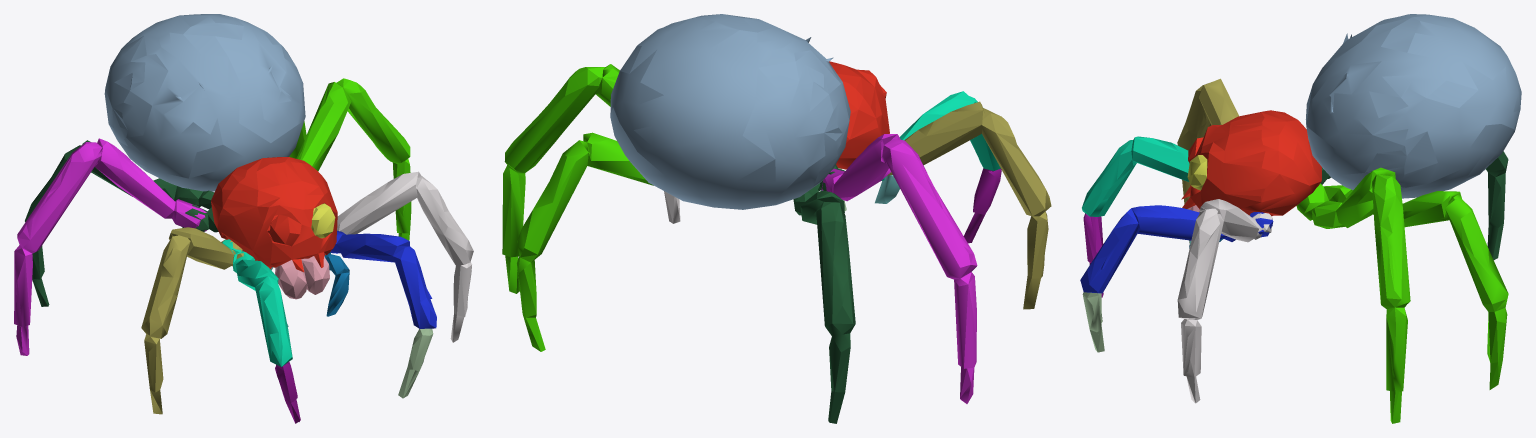
File: Spider.fbx
3 views of the same model, side by side, from view 1: azimuth 30°, elevation 25°; view 2: azimuth 150°, elevation 25°; view 3: azimuth 270°, elevation 25° (orthographic). The views are drawn at different scales.
Visible parts, largest first — view 1: part_1; view 2: part_1; view 3: part_1.
Boxes of the visible parts, x1=… form: part_1: x1=14, y1=14, x2=473, y2=423; part_1: x1=502, y1=14, x2=1051, y2=423; part_1: x1=1080, y1=14, x2=1521, y2=423.
Bounding box in the file's own units: 96.5 × 64.89 × 86.96.
